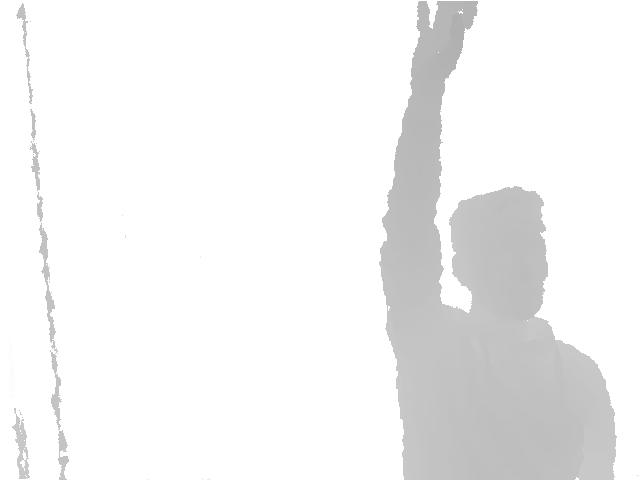hand: (411, 1, 479, 87)
head: (449, 185, 549, 313)
person: (380, 1, 618, 480)
